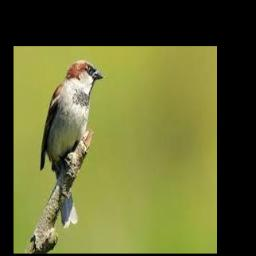Sparrow: (39, 60, 103, 228)
